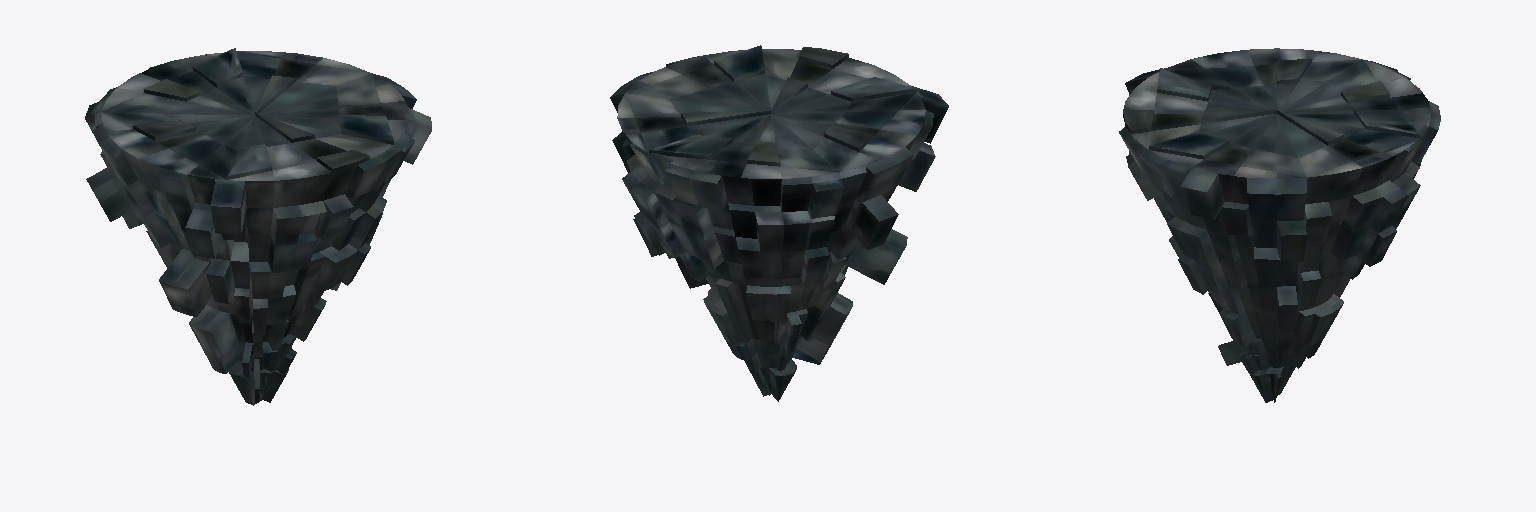
3 renders of one model, left to right at view 1: azimuth 30°, elevation 25°; view 2: azimuth 150°, elevation 25°; view 3: azimuth 270°, elevation 25°, orthographic.
Visible parts, largest first — view 1: Cone; view 2: Cone; view 3: Cone.
Boxes of the visible parts, x1=… form: Cone: x1=85, y1=48, x2=431, y2=405; Cone: x1=610, y1=45, x2=948, y2=401; Cone: x1=1119, y1=48, x2=1440, y2=402.
Bounding box in the file's own units: 2.2 × 2.07 × 2.09.
1 materials, 1 textured.